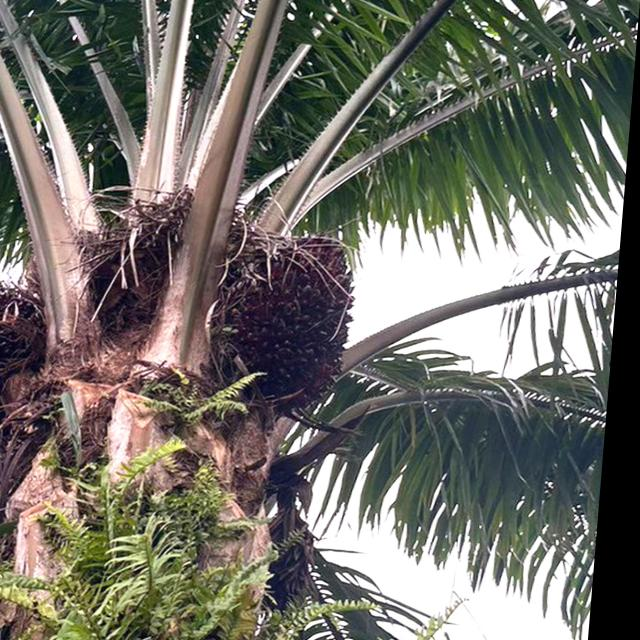ripe: (205, 227, 364, 400)
